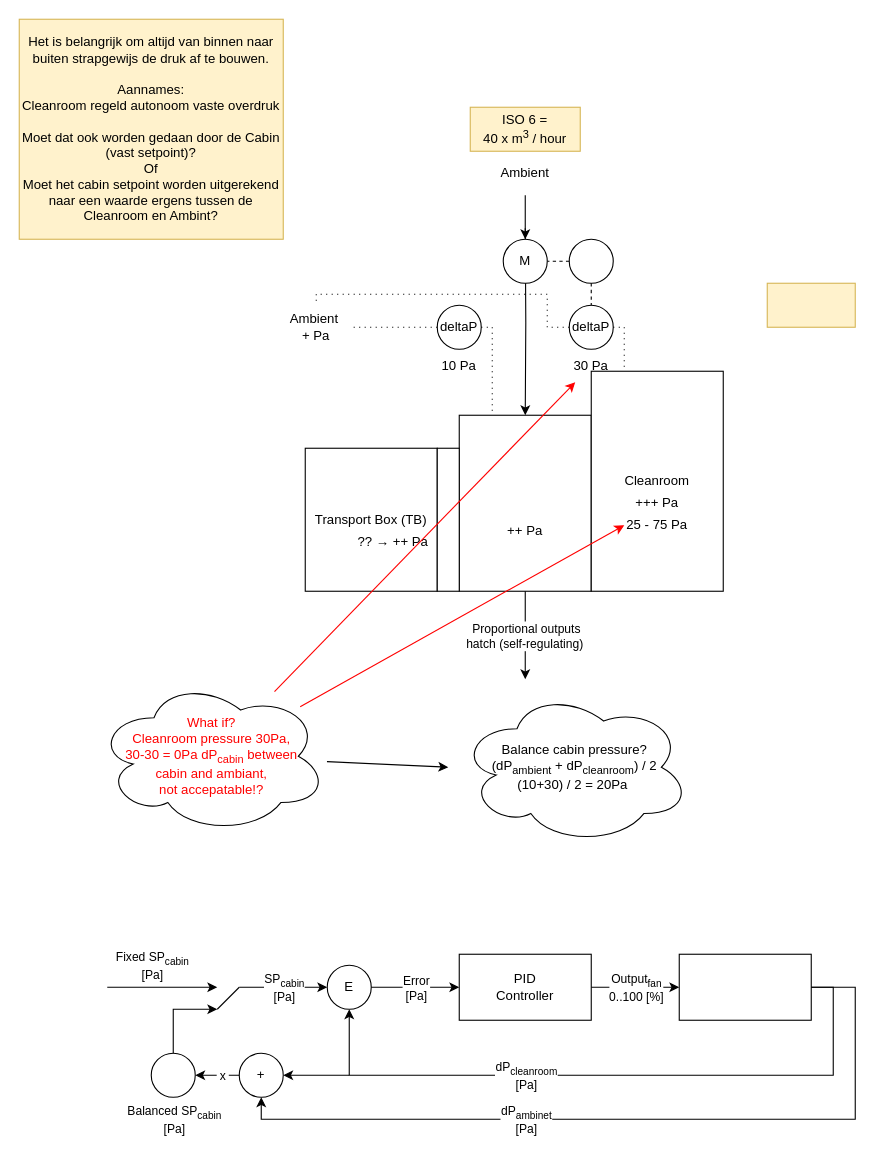
The diagram is 883 pixels wide and 1155 high, and some of its shapes have lost their labels. Here are the shapes that lost their labels. From the top down, the box of each, then its label:
(568, 238, 613, 283): PC
(766, 282, 855, 327): 1 bar = 100.000 Pa
(436, 447, 459, 591): Deco
(458, 414, 591, 591): Cabin
(678, 953, 811, 1020): PROCESS (pressuere control)
(150, 1052, 195, 1097): x/2
